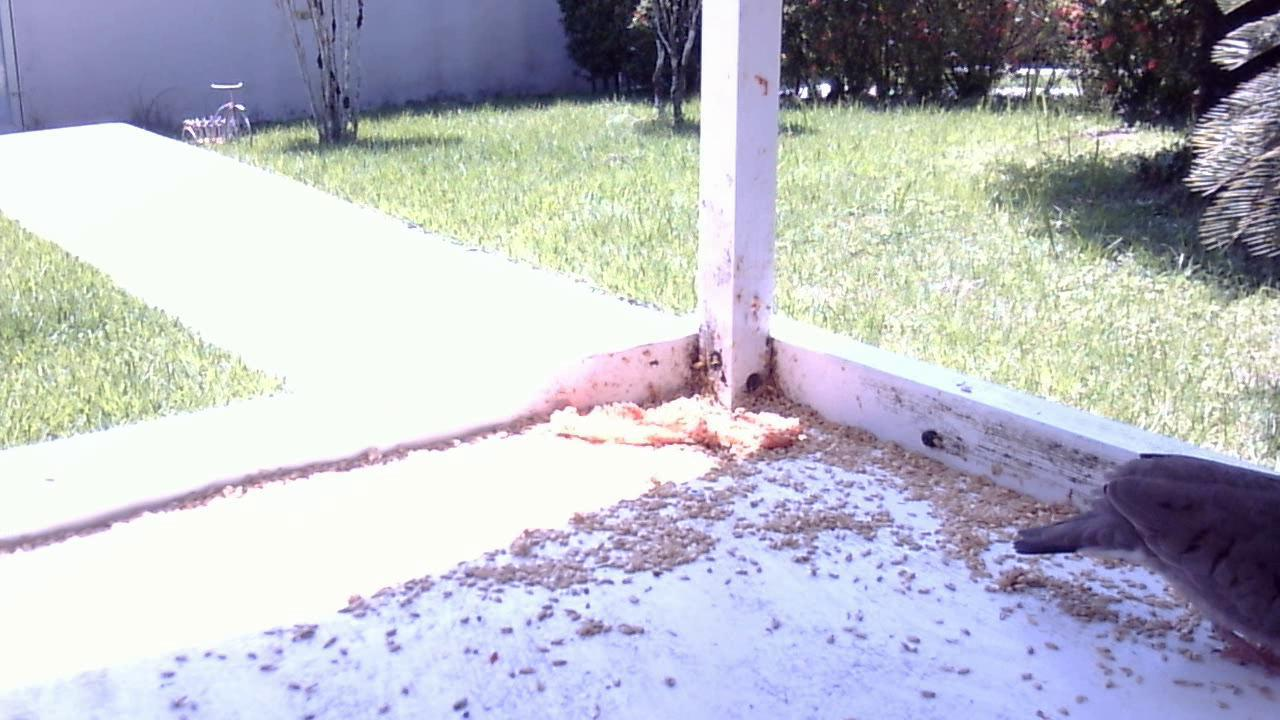rolinha: (999, 434, 1280, 683)
